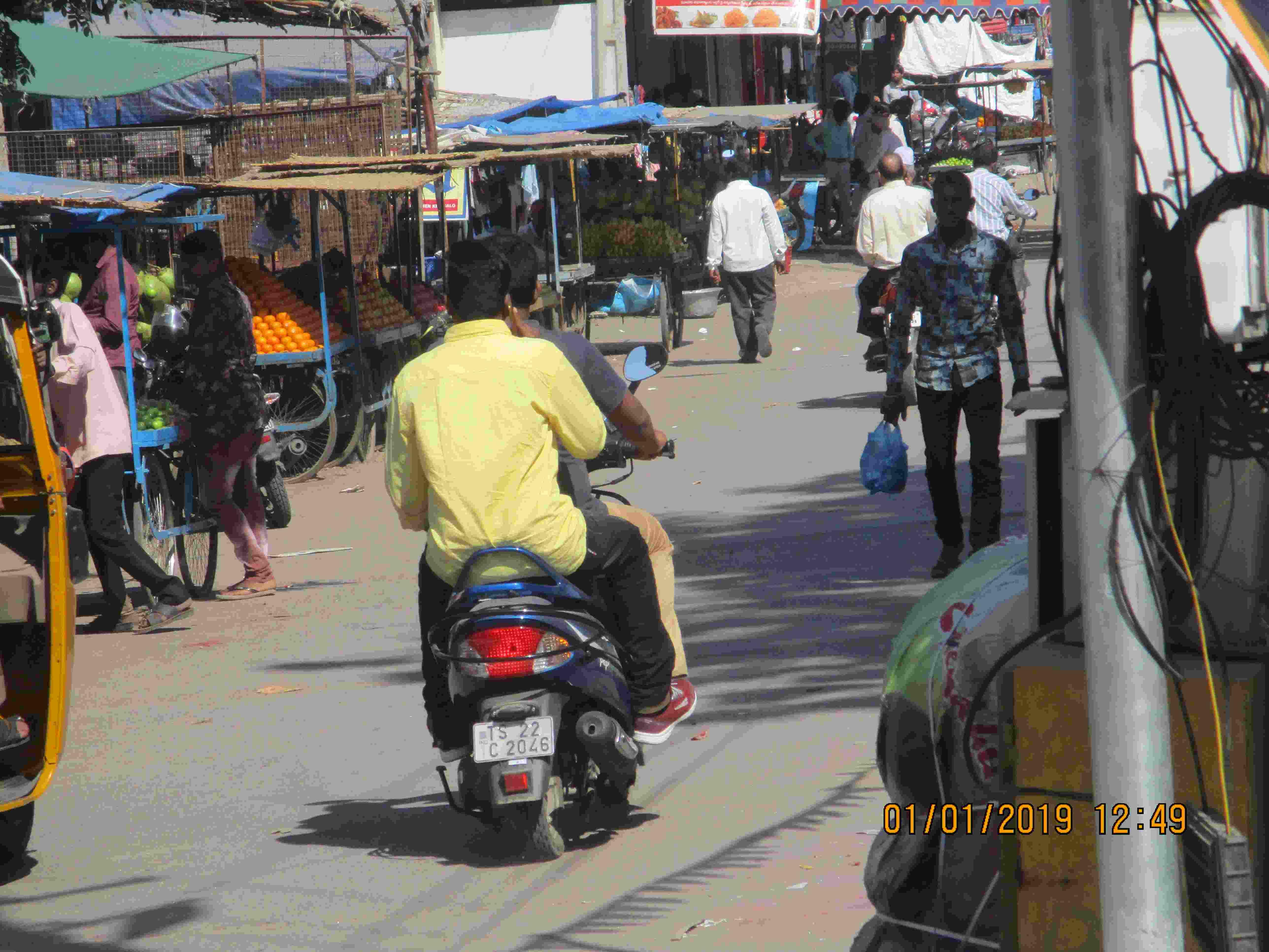plate: (469, 709, 576, 764)
